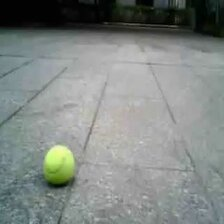tennis: (44, 145, 73, 180)
